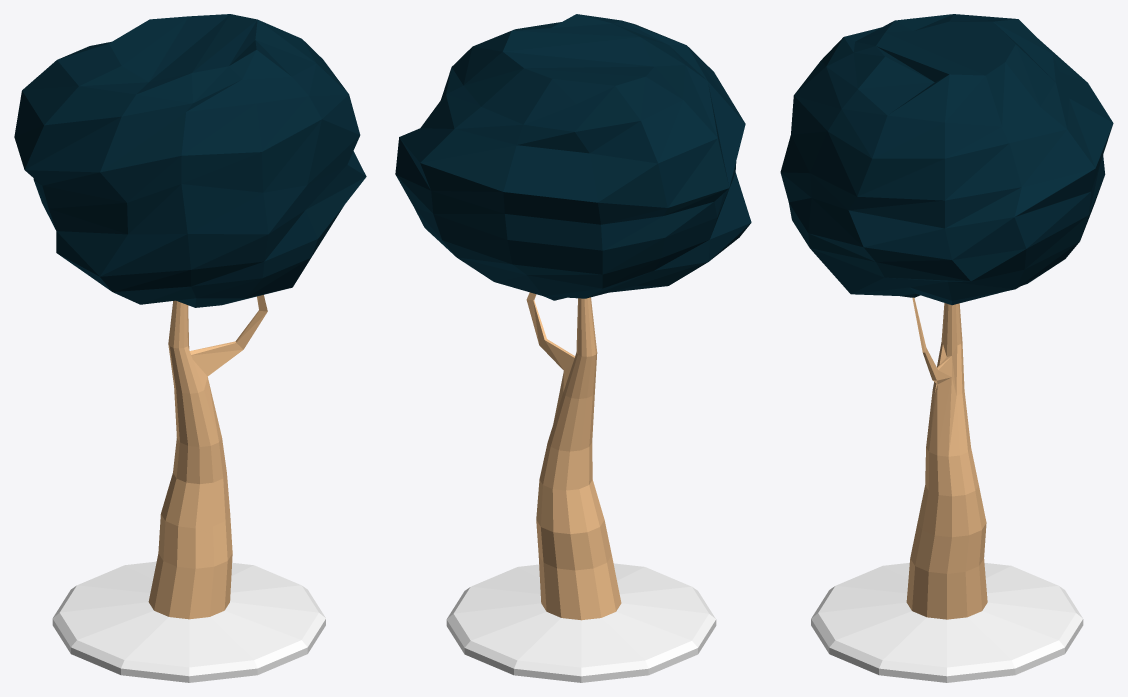
The model's file is arbre.FBX.
3 views of the same model, side by side, from view 1: azimuth 30°, elevation 25°; view 2: azimuth 150°, elevation 25°; view 3: azimuth 270°, elevation 25° (orthographic).
Visible parts, largest first — view 1: Cylinder001; view 2: Cylinder001; view 3: Cylinder001.
Boxes of the visible parts, <box> form: Cylinder001: <box>14,14,366,682</box>; Cylinder001: <box>395,14,751,682</box>; Cylinder001: <box>780,14,1113,682</box>.
Size of the model in its own units: 73.85 by 131 by 67.57.
